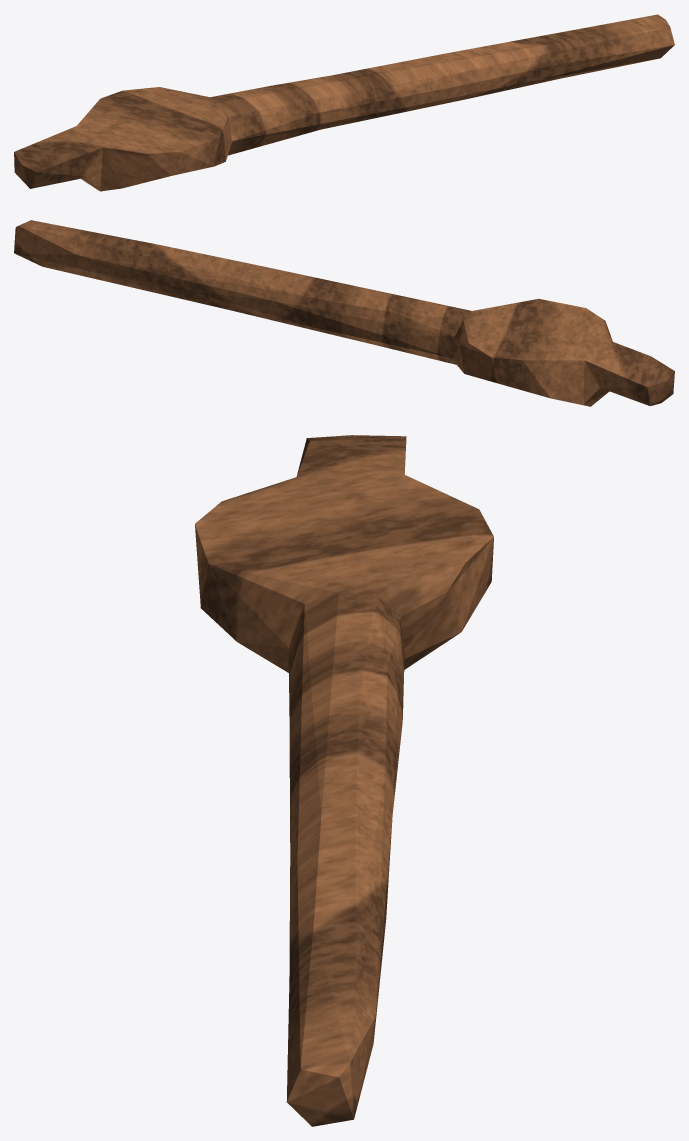
File: Yaktle_handle.fbx
3 views of the same model, one above another, from view 1: azimuth 30°, elevation 25°; view 2: azimuth 150°, elevation 25°; view 3: azimuth 270°, elevation 25° (orthographic). The views are drawn at different scales.
Visible parts, largest first — view 1: 손잡이; view 2: 손잡이; view 3: 손잡이.
Part boxes in pixels (left/top/right/bottom): 손잡이: left=14, top=14, right=674, bottom=191; 손잡이: left=14, top=220, right=674, bottom=406; 손잡이: left=195, top=435, right=493, bottom=1126.
Size of the model in its own units: 122 by 10.21 by 24.61.
Materials: 1 (1 with a texture image).
